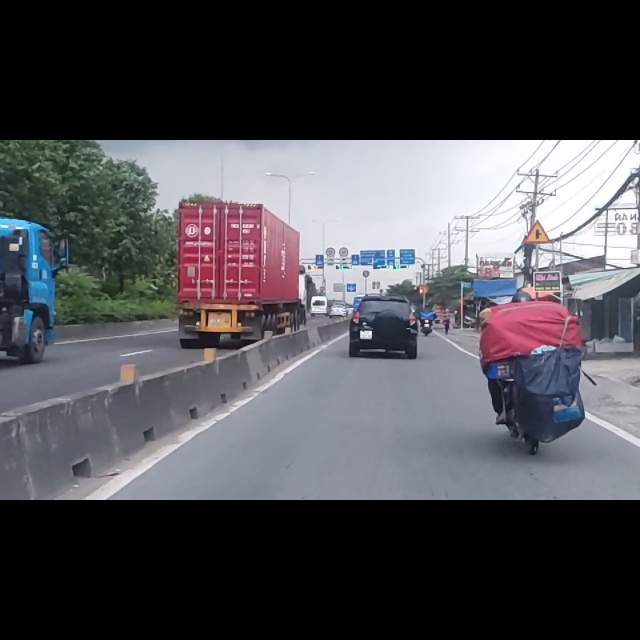bien_chi_dan: (523, 140, 551, 185), (337, 188, 350, 211)
